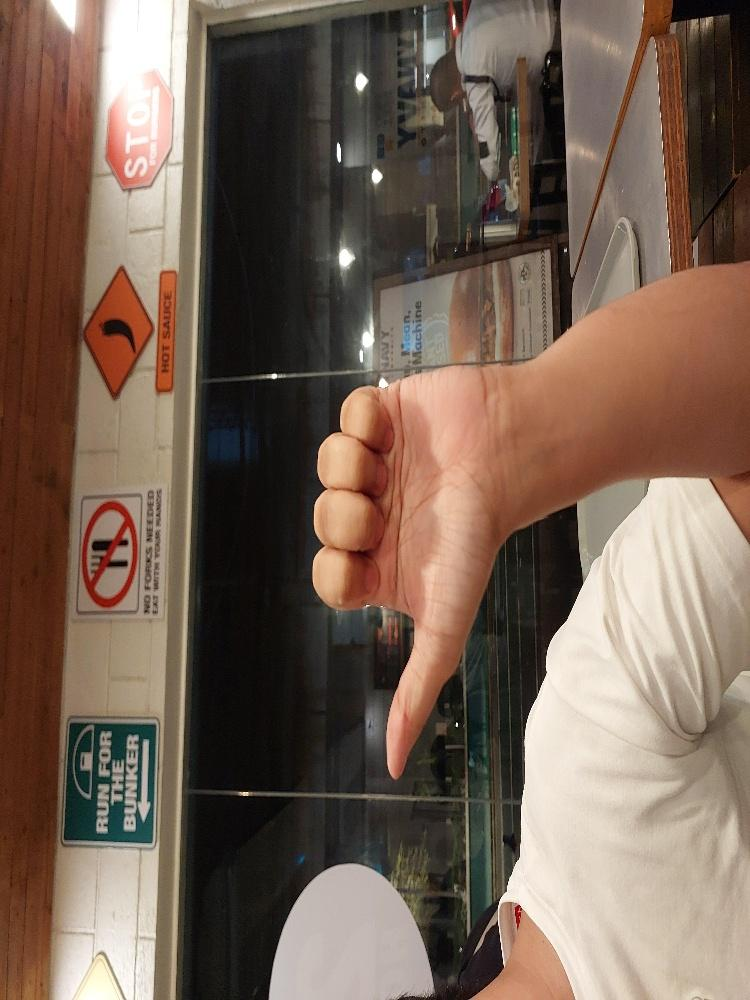e: (162, 413, 479, 680)
